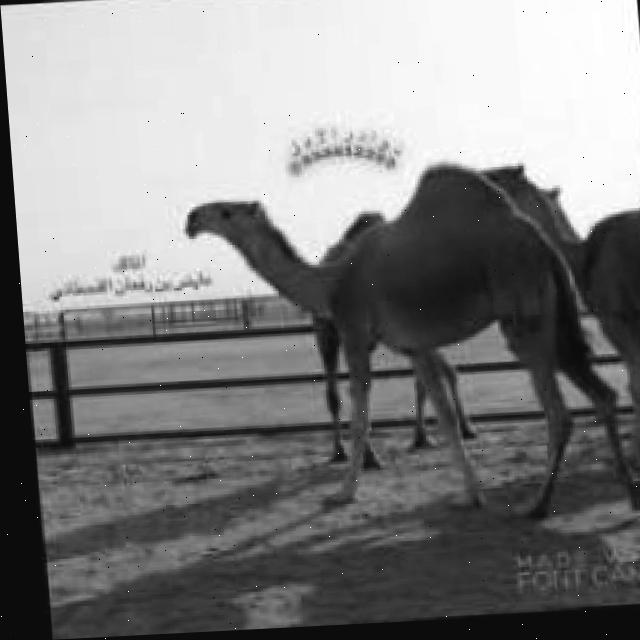Camel: (175, 152, 640, 536), (476, 156, 640, 478)
